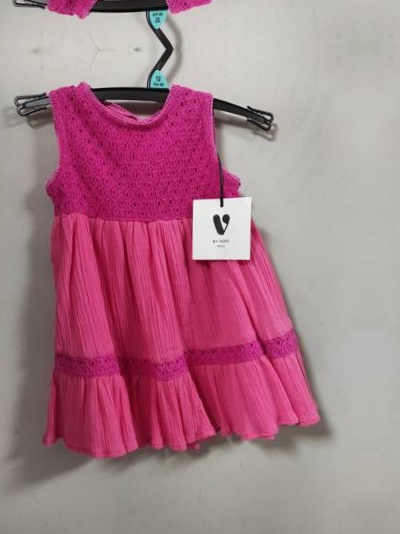Dress: (9, 63, 320, 464), (3, 0, 314, 35)
